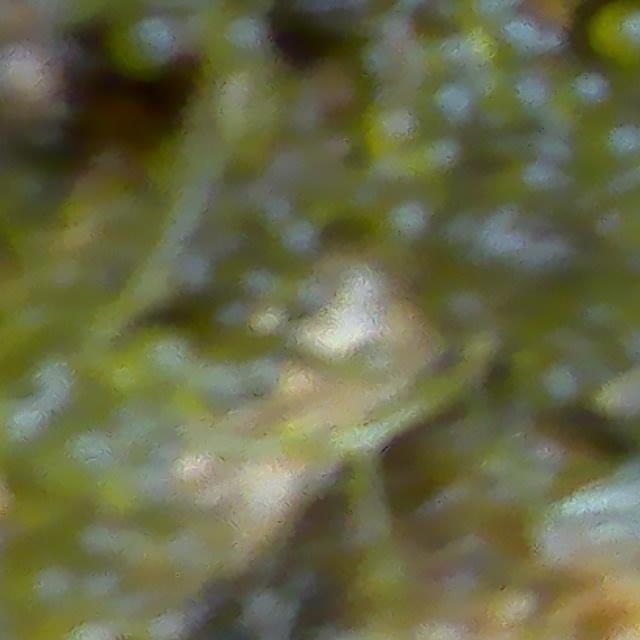SeaGrape: (0, 35, 73, 128), (110, 11, 178, 76), (588, 0, 639, 70)
